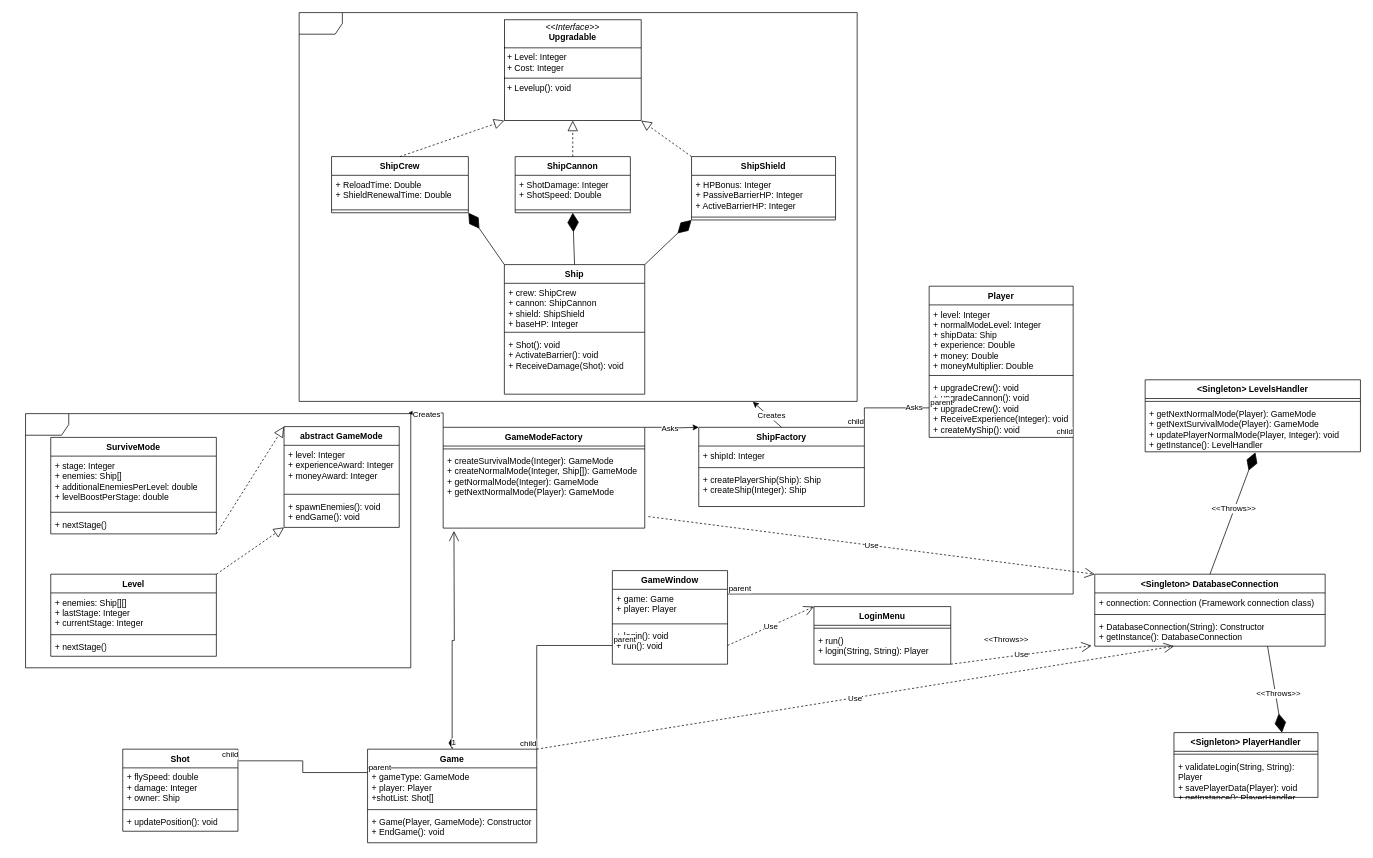
The diagram is 1373 pixels wide and 858 high, and some of its shapes have lost their labels. The shapes that lost their labels are listed below. From the top down, each one's centre as x and y in pixels, then its label:
At (577,206): "ShipFrame".
At (218,540): "GameModeFrame".
